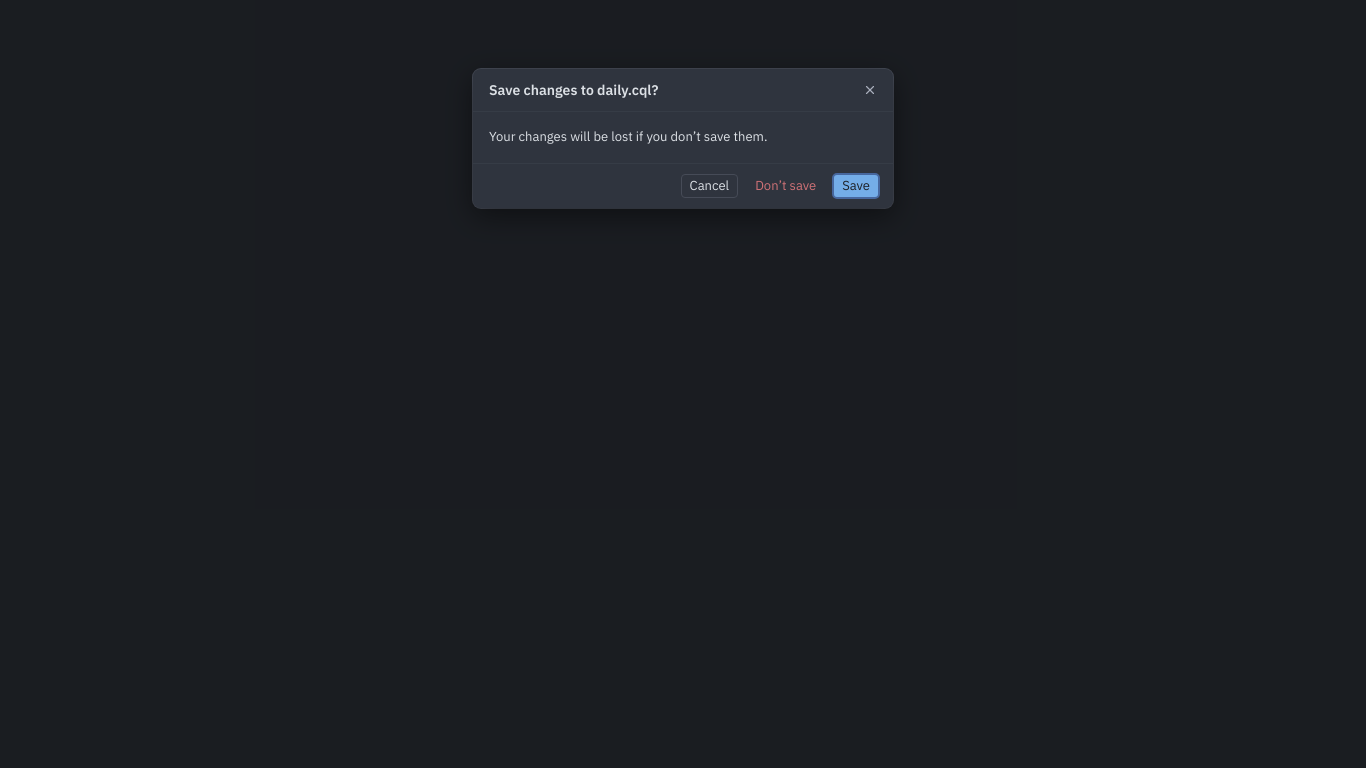
Scenario: QueryDialogs › unsaved changes › Save keeps the tab open when the save conflicts, then shows the conflict dialog
Click the button "Save" at (856, 186), box [833,174,879,198]
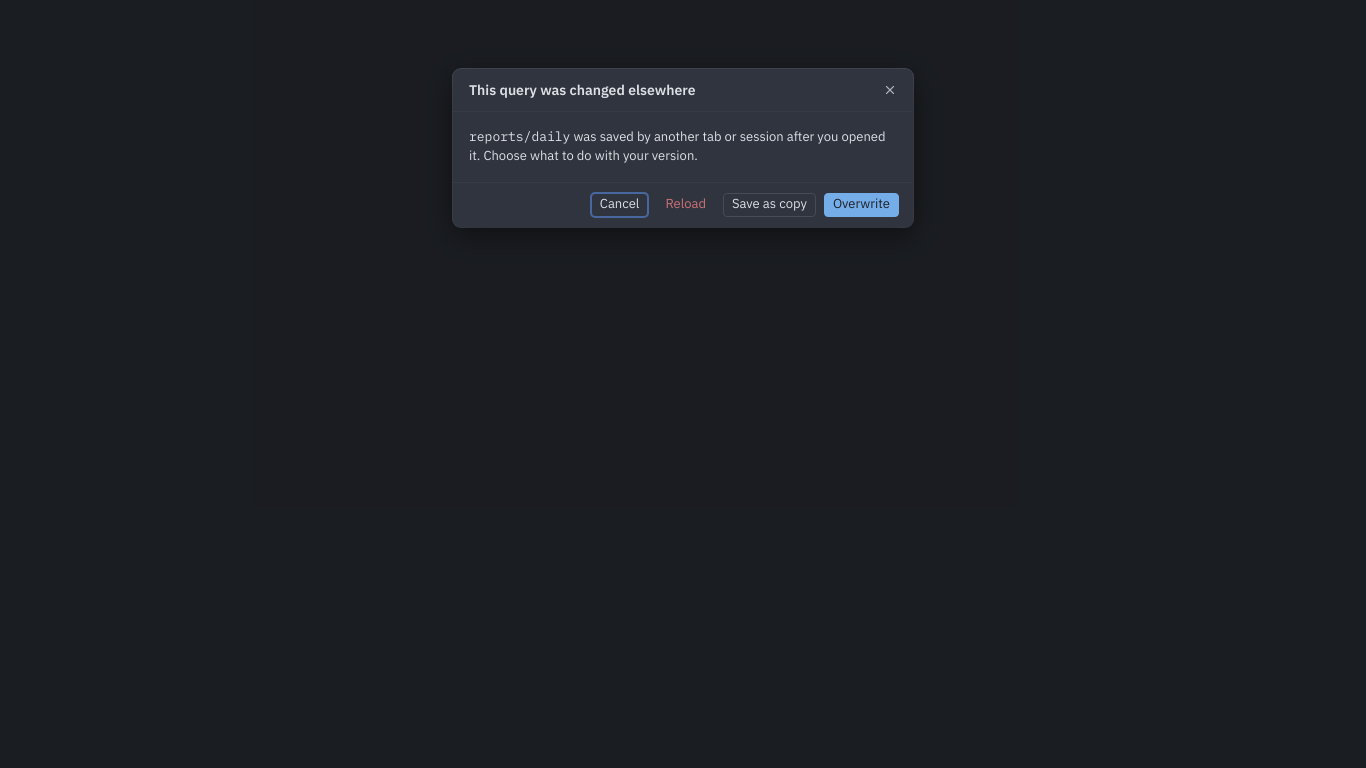
Expected: the dialog "This query was changed elsewhere" is shown, [453,69,913,227]
